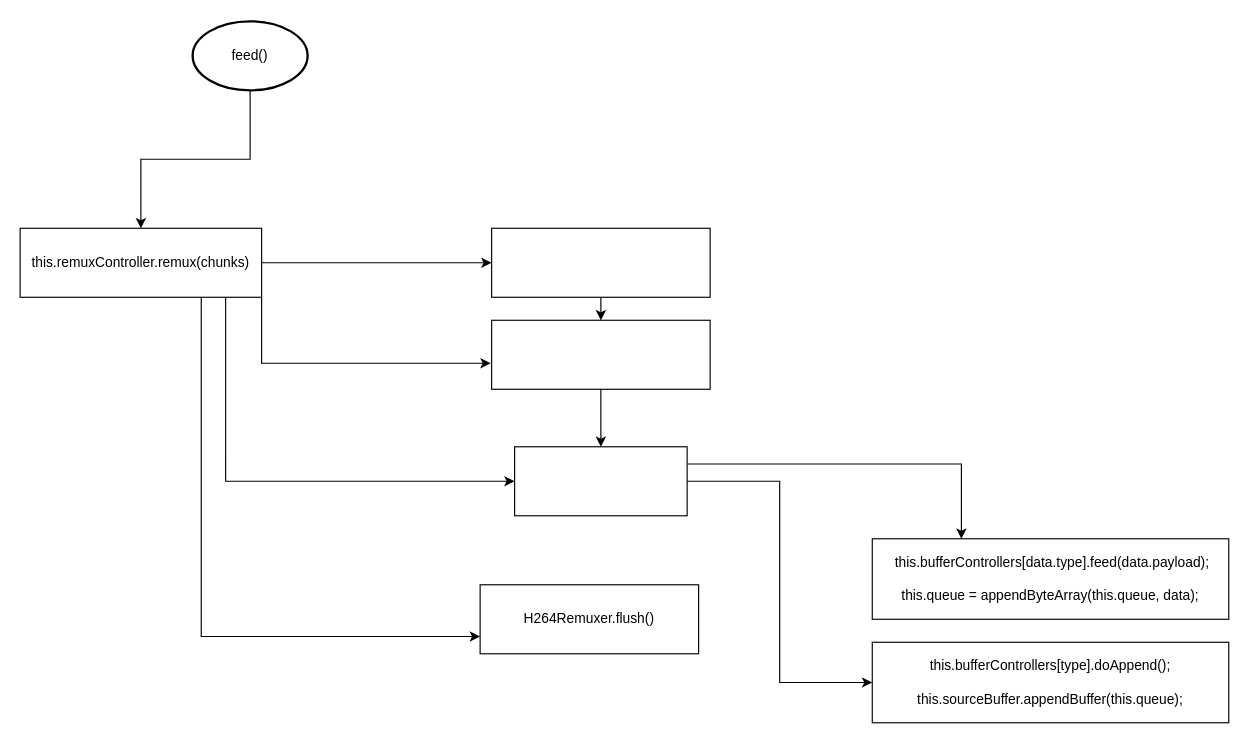
Some shapes in this 1249 by 743 pixel diagram are drawn without their labels. The shapes that lost their labels are listed below. From the top down, each one's centre as x and y in pixels, then its label:
point 600,262: H264Remuxer.remux(frames)
point 600,354: H264Remuxer.getPayload()
point 600,481: jmuxer.onBuffer(data)
